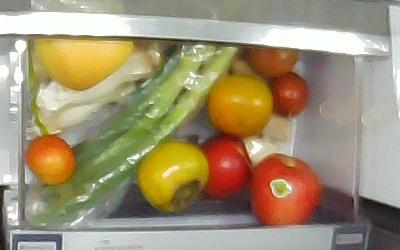apple: (247, 150, 318, 223), (198, 136, 253, 200)
grapefruit: (33, 34, 134, 92)
persimmon: (138, 141, 210, 215)
prune: (206, 74, 273, 135), (27, 135, 75, 183), (246, 46, 299, 78), (269, 73, 306, 116)
